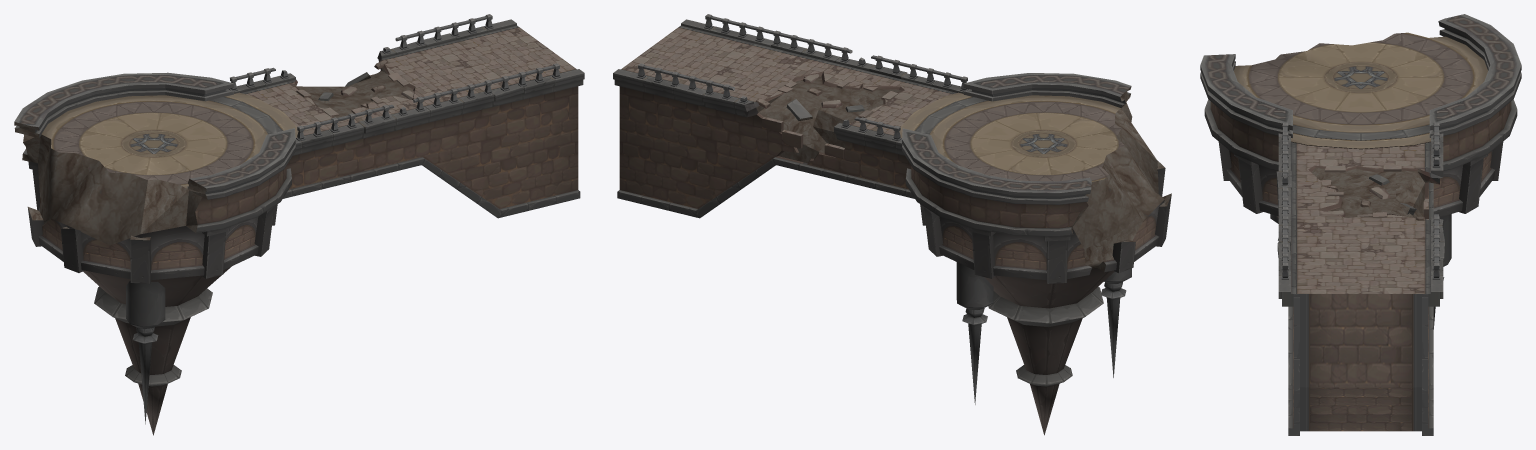
Rendered from sc_dungeon_moshenta_building_003_b.FBX.
3 views of the same model, side by side, from view 1: azimuth 30°, elevation 25°; view 2: azimuth 150°, elevation 25°; view 3: azimuth 270°, elevation 25° (orthographic). The views are drawn at different scales.
Visible parts, largest first — view 1: sc_dungeon_moshenta_building_003_b; view 2: sc_dungeon_moshenta_building_003_b; view 3: sc_dungeon_moshenta_building_003_b.
Part boxes in pixels (x1,y1,x2,y2): sc_dungeon_moshenta_building_003_b: [14, 14, 584, 435]; sc_dungeon_moshenta_building_003_b: [613, 14, 1171, 435]; sc_dungeon_moshenta_building_003_b: [1200, 14, 1521, 435].
Bounding box in the file's own units: 51.68 × 25.49 × 30.08.
Materials: 1 (1 with a texture image).
